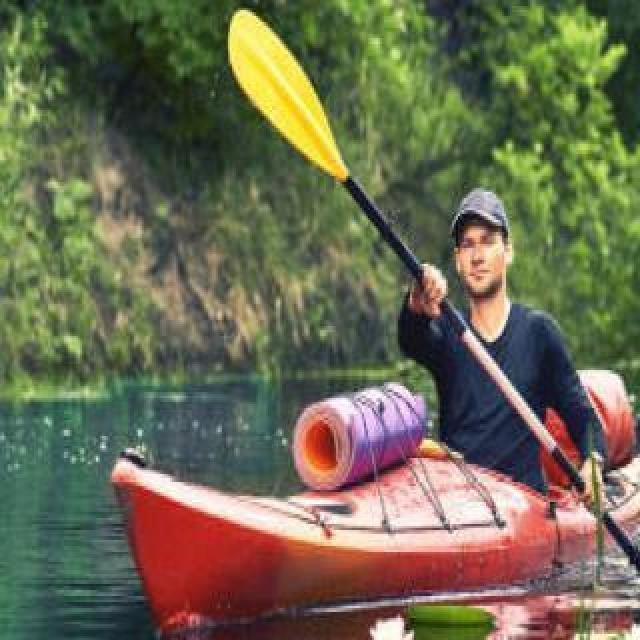kayak: (111, 439, 640, 634)
